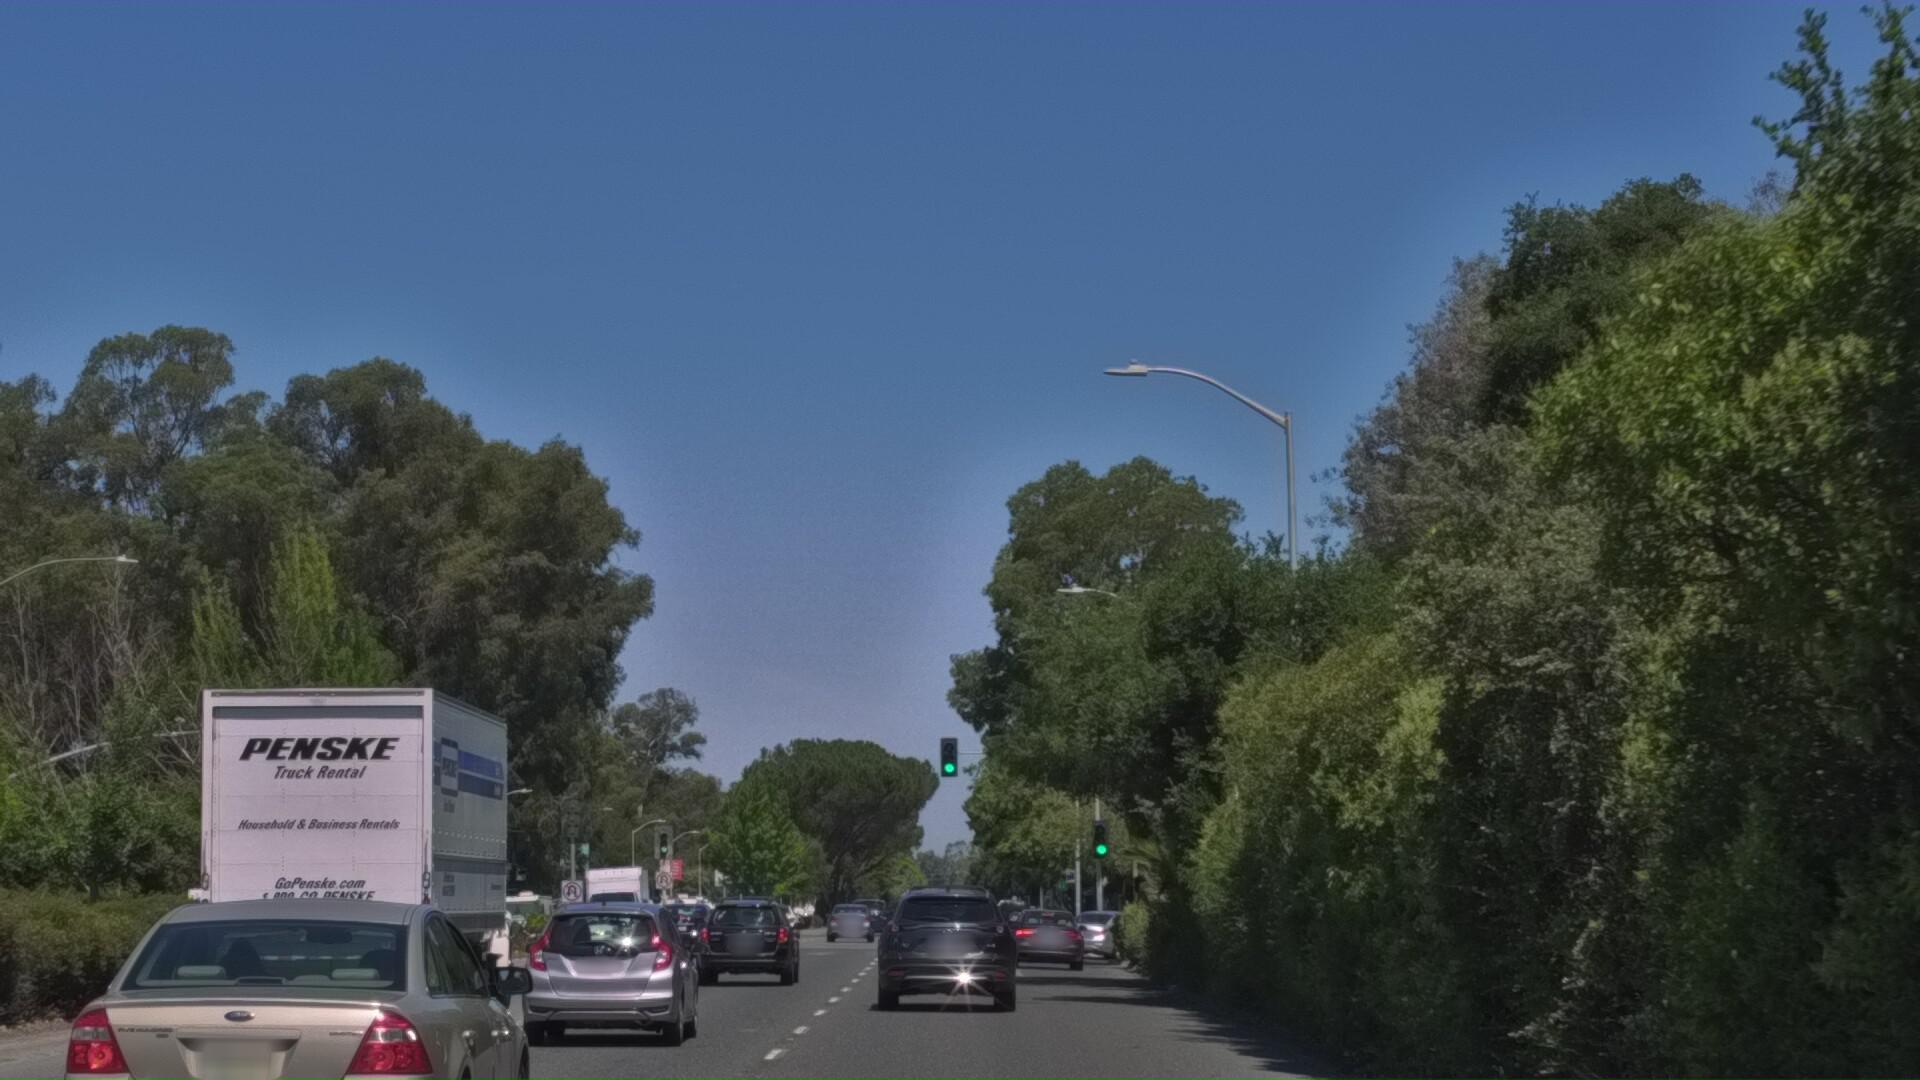car: (8, 967, 549, 1080), (851, 973, 1018, 1080), (505, 992, 705, 1080), (676, 982, 808, 1080), (1001, 982, 1097, 1064)
truck: (189, 758, 555, 1080)
